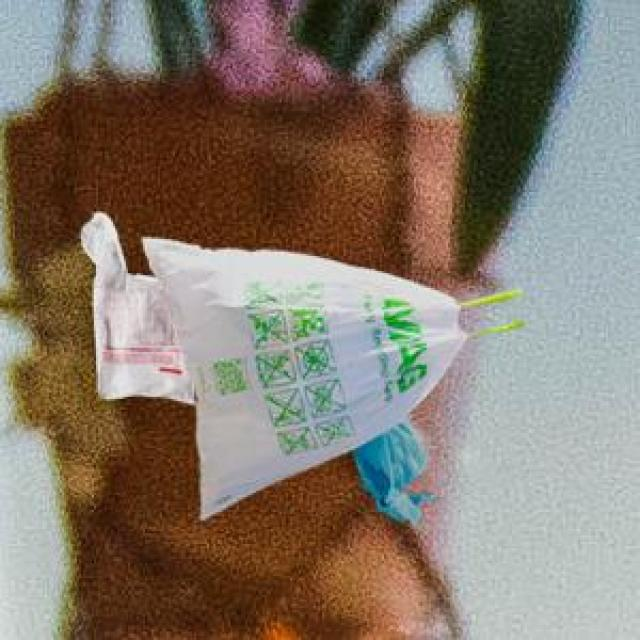plastic: (59, 188, 606, 542)
